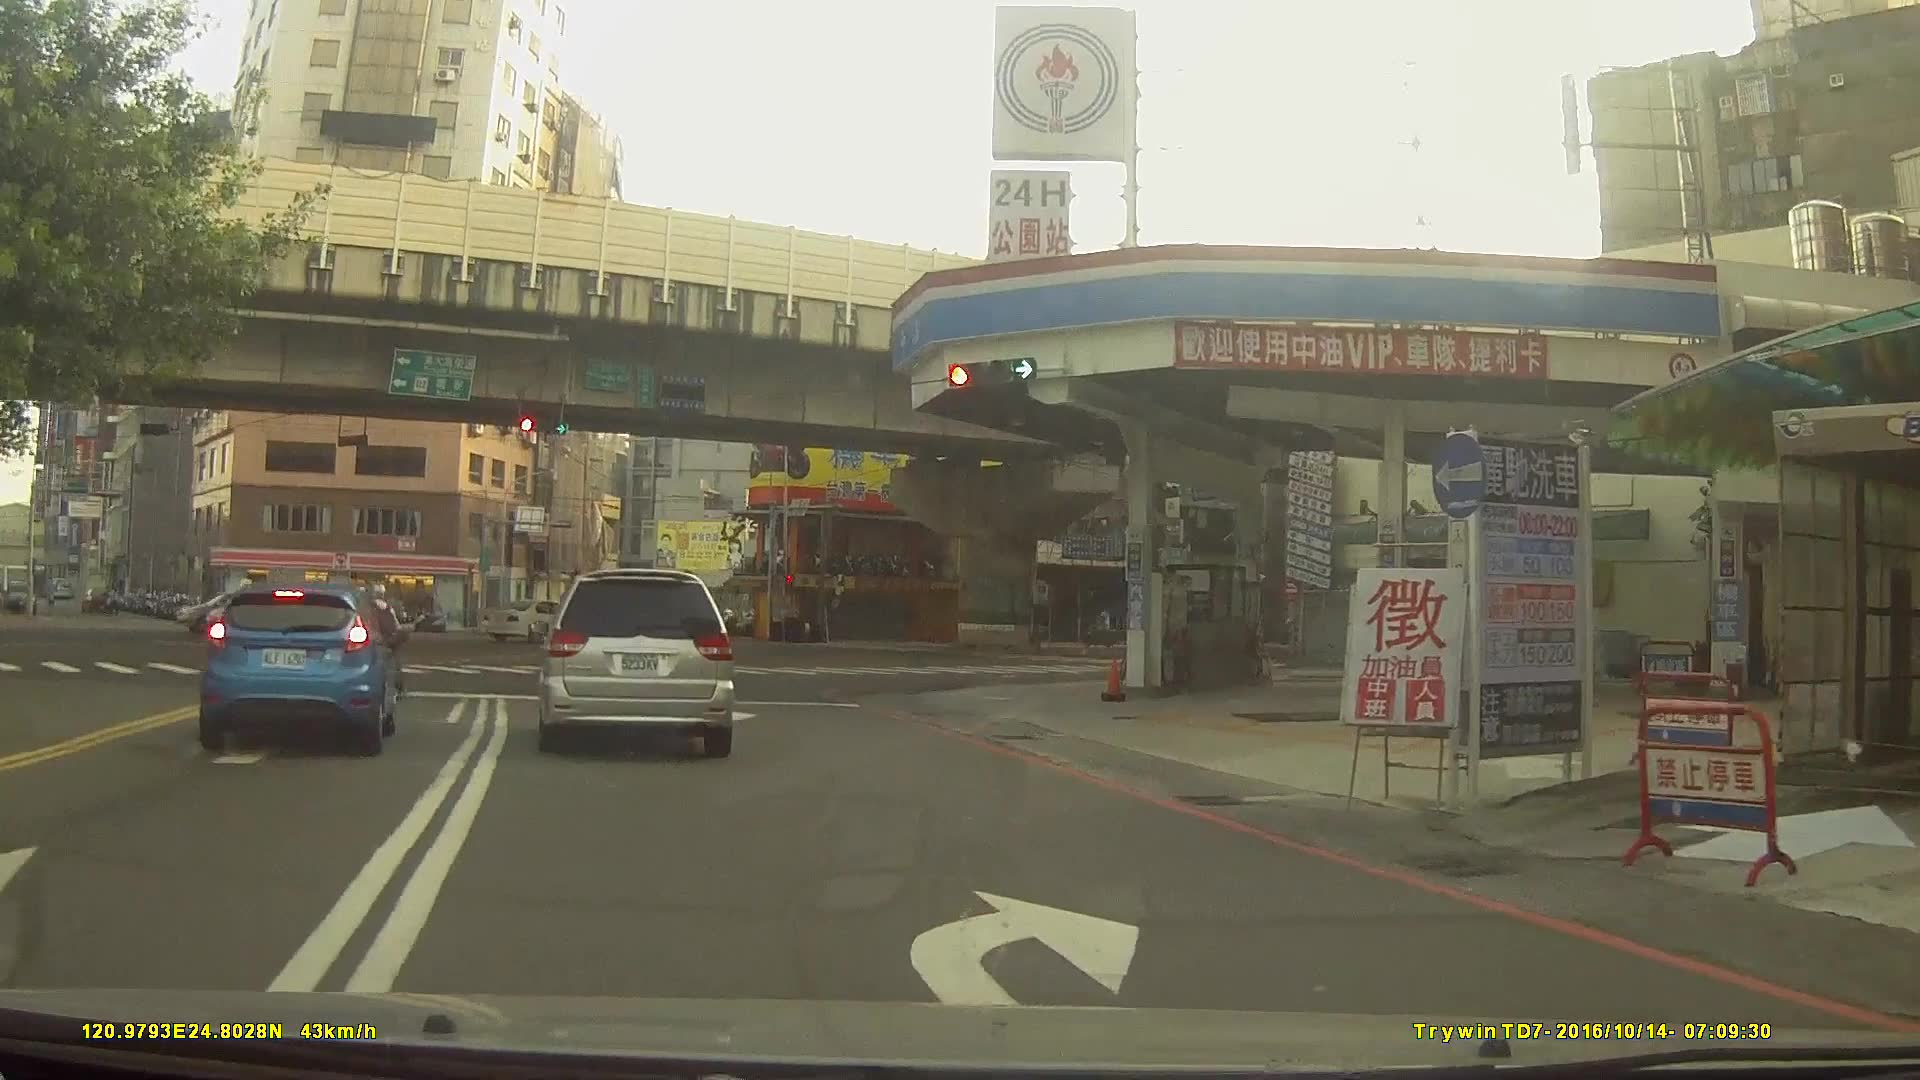vehicle: (531, 563, 736, 754), (196, 578, 398, 752), (200, 583, 324, 633), (481, 597, 589, 641)
